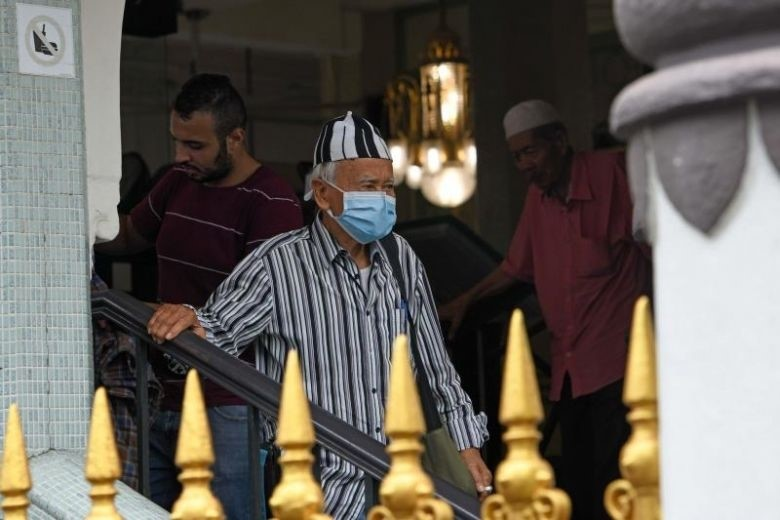face_no_mask: (166, 71, 253, 189), (497, 106, 573, 189)
face_with_mask: (309, 112, 402, 246)
